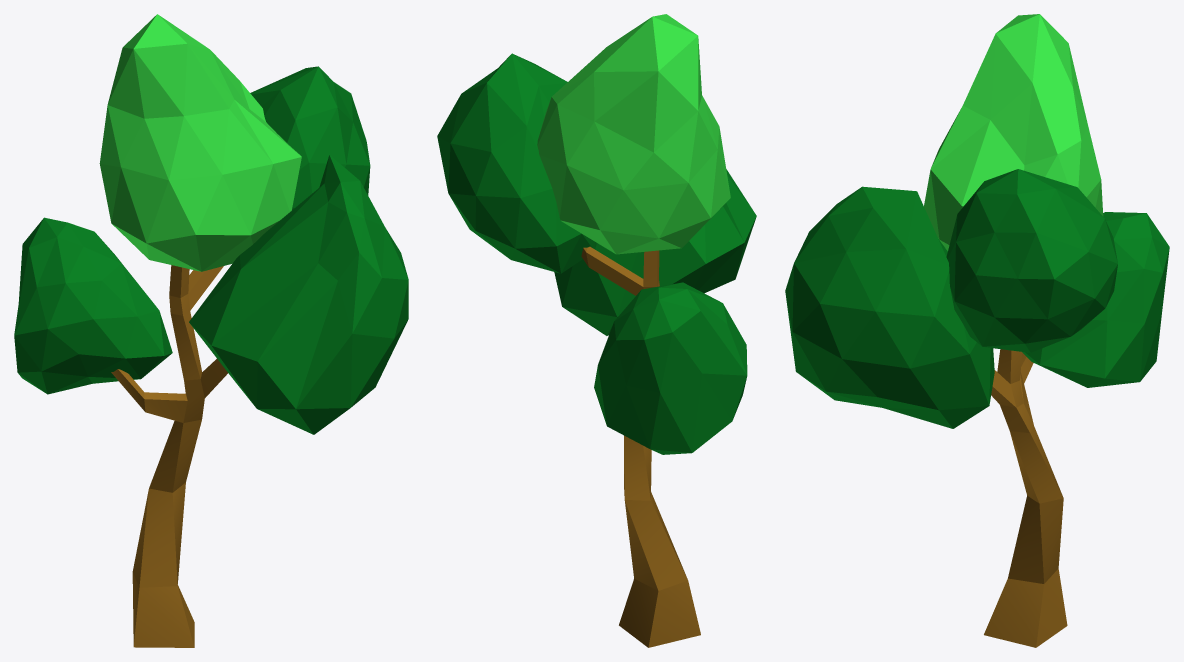
The model's file is tree4.glb.
3 renders of one model, left to right at view 1: azimuth 30°, elevation 25°; view 2: azimuth 150°, elevation 25°; view 3: azimuth 270°, elevation 25°, orthographic.
Visible parts, largest first — view 1: Icosphere.012; view 2: Icosphere.012; view 3: Icosphere.012.
Boxes of the visible parts, bbox=[...] form: Icosphere.012: bbox=[14, 14, 408, 647]; Icosphere.012: bbox=[437, 14, 756, 647]; Icosphere.012: bbox=[785, 14, 1169, 647].
Bounding box in the file's own units: 18.91 × 34.15 × 19.3.
